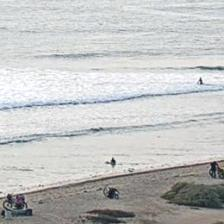surfer: (197, 78, 203, 85)
